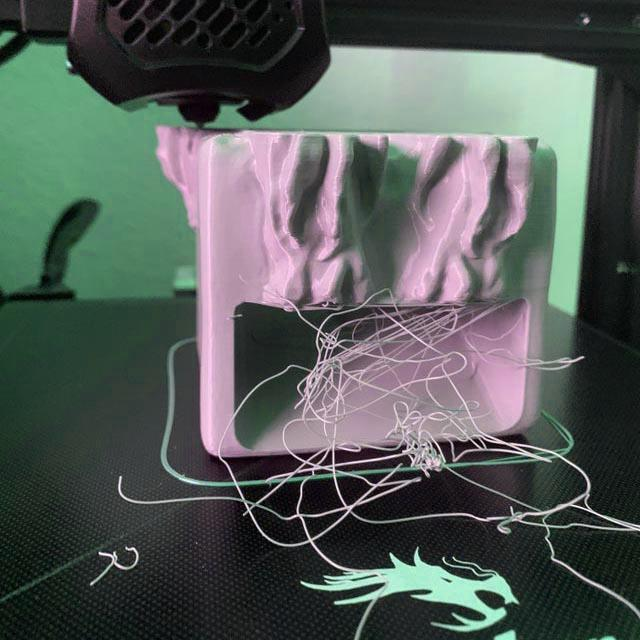Spaghetti: (212, 284, 588, 554)
